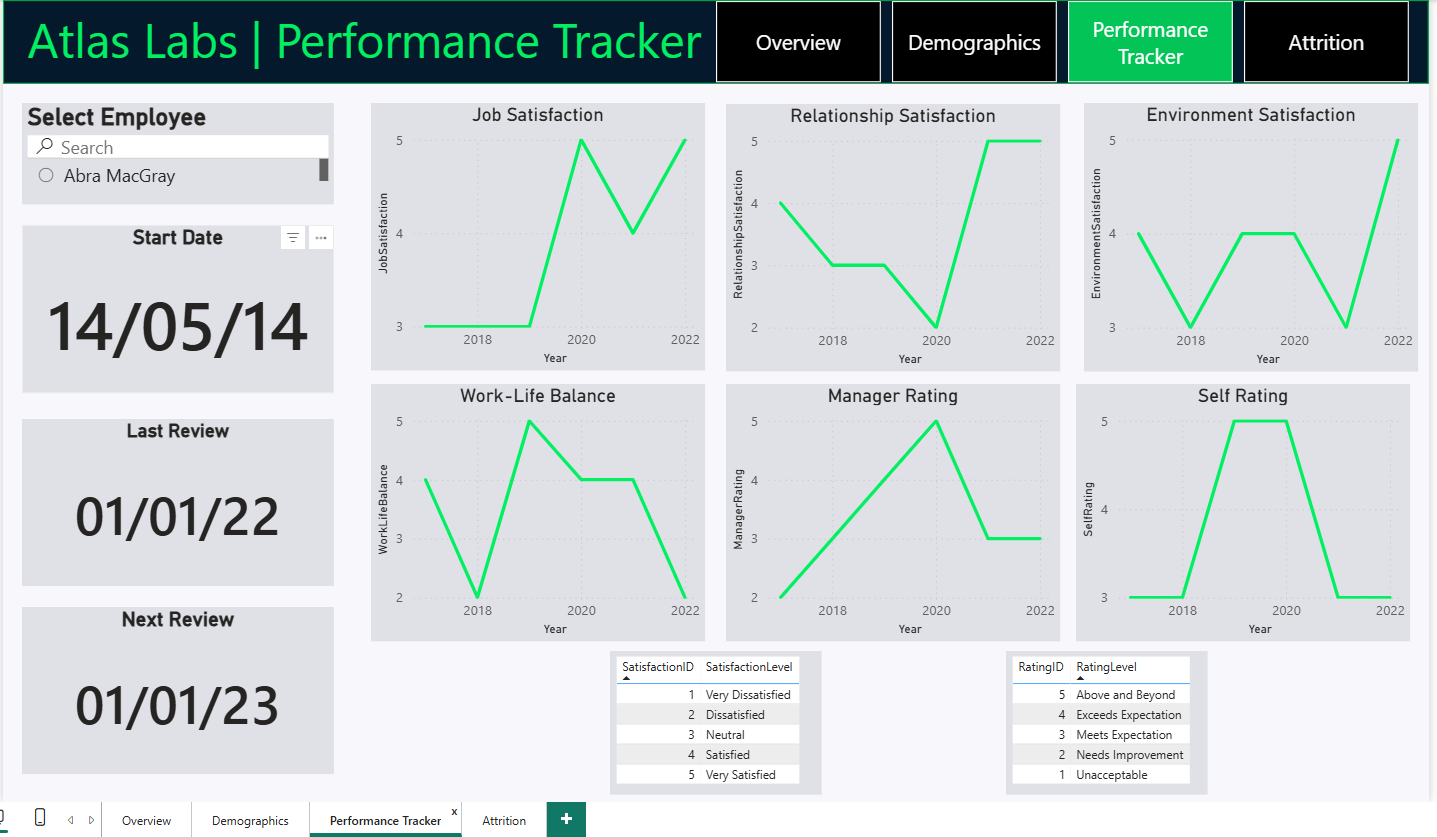

The page's visual inventory and layout, read from the dashboard file:
{"tool":"powerbi","page":{"name":"Performance Tracker","canvas":[1280,720],"ordinal":2},"visuals":[{"type":"slicer","title":"Select Employee","fields":{"Values":["DimEmployee.FullName"]},"box":[17.1,92.5,280.1,90.7],"z":0},{"type":"card","title":"Start Date","fields":{"Values":["Min(DimEmployee.HireDate)"]},"box":[17.1,202,280.1,150.8],"z":1000},{"type":"card","title":"Next Review ","fields":{"Values":["_Measures.NextReviewDate"]},"box":[17.1,544.9,280.1,149.9],"z":2000},{"type":"card","title":"Last Review","fields":{"Values":["_Measures.LastReviewDate"]},"box":[17.1,376.2,280.1,149.9],"z":3000},{"type":"lineChart","title":"Job Satisfaction ","fields":{"Y":["_Measures.JobSatisfaction"],"Category":["DimDate.Date.Variation.Date Hierarchy.Year","DimDate.Date.Variation.Date Hierarchy.Quarter","DimDate.Date.Variation.Date Hierarchy.Month","DimDate.Date.Variation.Date Hierarchy.Day"]},"box":[330.4,92.5,299.9,239.7],"z":4000},{"type":"lineChart","title":"Relationship Satisfaction","fields":{"Y":["_Measures.RelationshipSatisfaction"],"Category":["DimDate.Date.Variation.Date Hierarchy.Year"]},"box":[649.1,93.4,299.9,239.7],"z":5000},{"type":"lineChart","title":"Environment Satisfaction ","fields":{"Y":["_Measures.EnvironmentSatisfaction"],"Category":["DimDate.Date.Variation.Date Hierarchy.Year"]},"box":[970.5,92.5,299.9,240.6],"z":6000},{"type":"lineChart","title":"Work-Life Balance","fields":{"Y":["_Measures.WorkLifeBalance"],"Category":["DimDate.Date.Variation.Date Hierarchy.Year","DimDate.Date.Variation.Date Hierarchy.Quarter","DimDate.Date.Variation.Date Hierarchy.Month","DimDate.Date.Variation.Date Hierarchy.Day"]},"box":[330.4,344.7,299.9,230.7],"z":7000},{"type":"lineChart","title":"Manager Rating ","fields":{"Y":["_Measures.ManagerRating"],"Category":["DimDate.Date.Variation.Date Hierarchy.Year","DimDate.Date.Variation.Date Hierarchy.Quarter","DimDate.Date.Variation.Date Hierarchy.Month","DimDate.Date.Variation.Date Hierarchy.Day"]},"box":[649.1,344.7,299.9,230.7],"z":8000},{"type":"lineChart","title":"Self Rating","fields":{"Y":["_Measures.SelfRating"],"Category":["DimDate.Date.Variation.Date Hierarchy.Year","DimDate.Date.Variation.Date Hierarchy.Quarter","DimDate.Date.Variation.Date Hierarchy.Month","DimDate.Date.Variation.Date Hierarchy.Day"]},"box":[963.3,344.7,299.9,230.7],"z":9000},{"type":"tableEx","fields":{"Values":["Dim_SatisfiedLevel.SatisfactionID","Dim_SatisfiedLevel.SatisfactionLevel"]},"box":[544.9,584.4,190.3,129.3],"z":10000},{"type":"tableEx","fields":{"Values":["Dim_RatingLevel.RatingID","Dim_RatingLevel.RatingLevel"]},"box":[900.4,584.4,181.3,129.3],"z":11000},{"type":"shape","box":[0,0,1280,75.3],"z":12000},{"type":"textbox","box":[17.5,1.3,631.9,73.9],"z":13000},{"type":"pageNavigator","box":[640,1.3,622.5,73.9],"z":13001}]}

Visuals, with their boxes on the page's 1280x720 design canvas (x1, y1, x2, y2). These are canvas units, not pixel positions in the 1437x838 screenshot, which may show the page scaled, cropped or inside an application window:
"Select Employee" slicer: {"left": 17, "top": 92, "right": 297, "bottom": 183}
"Start Date" card: {"left": 17, "top": 202, "right": 297, "bottom": 353}
"Next Review " card: {"left": 17, "top": 545, "right": 297, "bottom": 695}
"Last Review" card: {"left": 17, "top": 376, "right": 297, "bottom": 526}
"Job Satisfaction " lineChart: {"left": 330, "top": 92, "right": 630, "bottom": 332}
"Relationship Satisfaction" lineChart: {"left": 649, "top": 93, "right": 949, "bottom": 333}
"Environment Satisfaction " lineChart: {"left": 970, "top": 92, "right": 1270, "bottom": 333}
"Work-Life Balance" lineChart: {"left": 330, "top": 345, "right": 630, "bottom": 575}
"Manager Rating " lineChart: {"left": 649, "top": 345, "right": 949, "bottom": 575}
"Self Rating" lineChart: {"left": 963, "top": 345, "right": 1263, "bottom": 575}
tableEx - Dim_SatisfiedLevel.SatisfactionID x Dim_SatisfiedLevel.SatisfactionLevel: {"left": 545, "top": 584, "right": 735, "bottom": 714}
tableEx - Dim_RatingLevel.RatingID x Dim_RatingLevel.RatingLevel: {"left": 900, "top": 584, "right": 1082, "bottom": 714}
shape: {"left": 0, "top": 0, "right": 1280, "bottom": 75}
textbox: {"left": 18, "top": 1, "right": 649, "bottom": 75}
pageNavigator: {"left": 640, "top": 1, "right": 1262, "bottom": 75}
